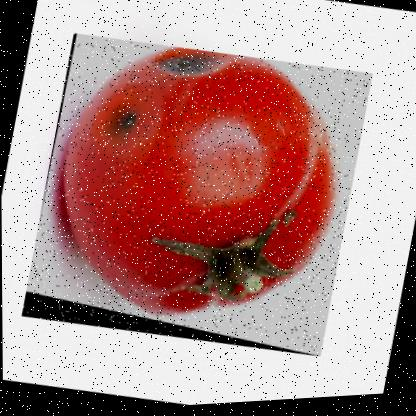tomato_rotten: (17, 18, 373, 374)
